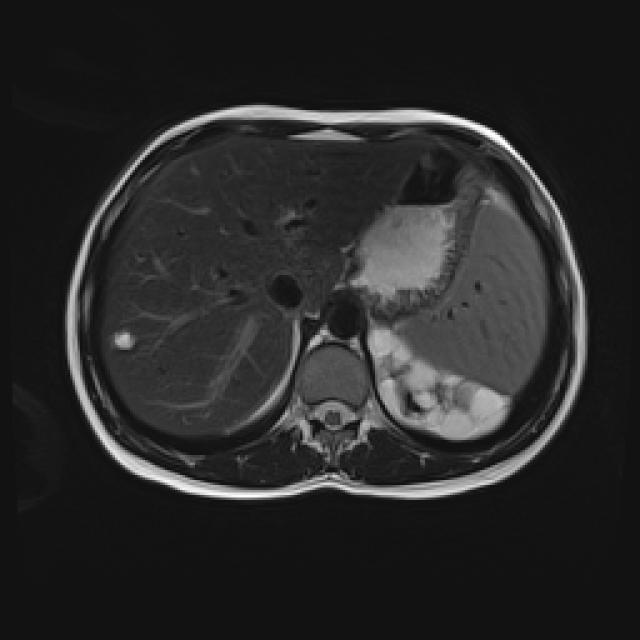sol: (366, 325, 506, 441)
